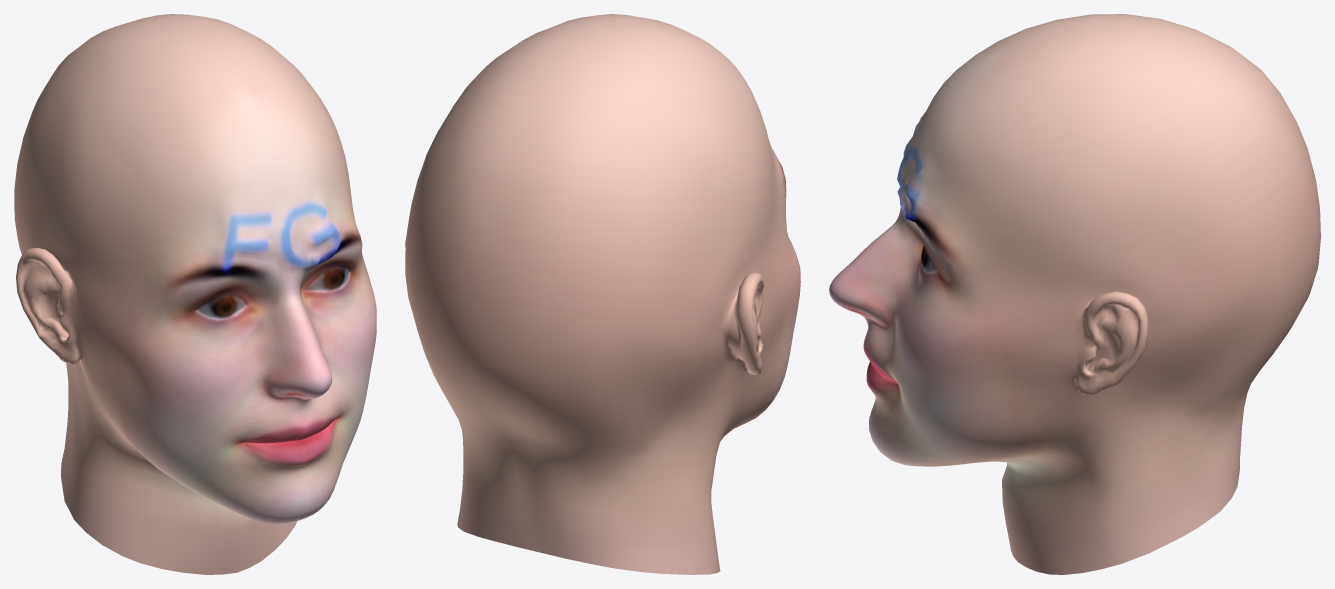
Rendered from avg_anyrace_female_09.obj.
3 renders of one model, left to right at view 1: azimuth 30°, elevation 25°; view 2: azimuth 150°, elevation 25°; view 3: azimuth 270°, elevation 25°, orthographic. The views are drawn at different scales.
Parts seen in each view (by area): view 1: HeadHires; view 2: HeadHires; view 3: HeadHires.
Part boxes in pixels (box(x1,y1,x2,y2)): HeadHires: box(14, 14, 376, 574); HeadHires: box(405, 14, 800, 574); HeadHires: box(829, 14, 1320, 574).
Bounding box in the file's own units: 187 × 283 × 242.
3 materials, 3 textured.
